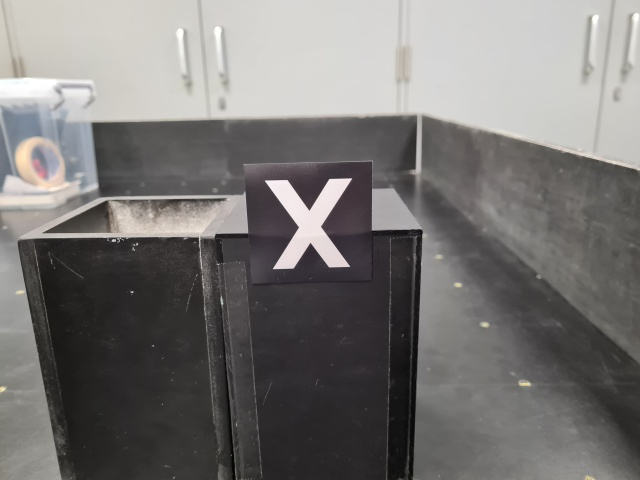alphabet_x: (243, 161, 376, 283)
